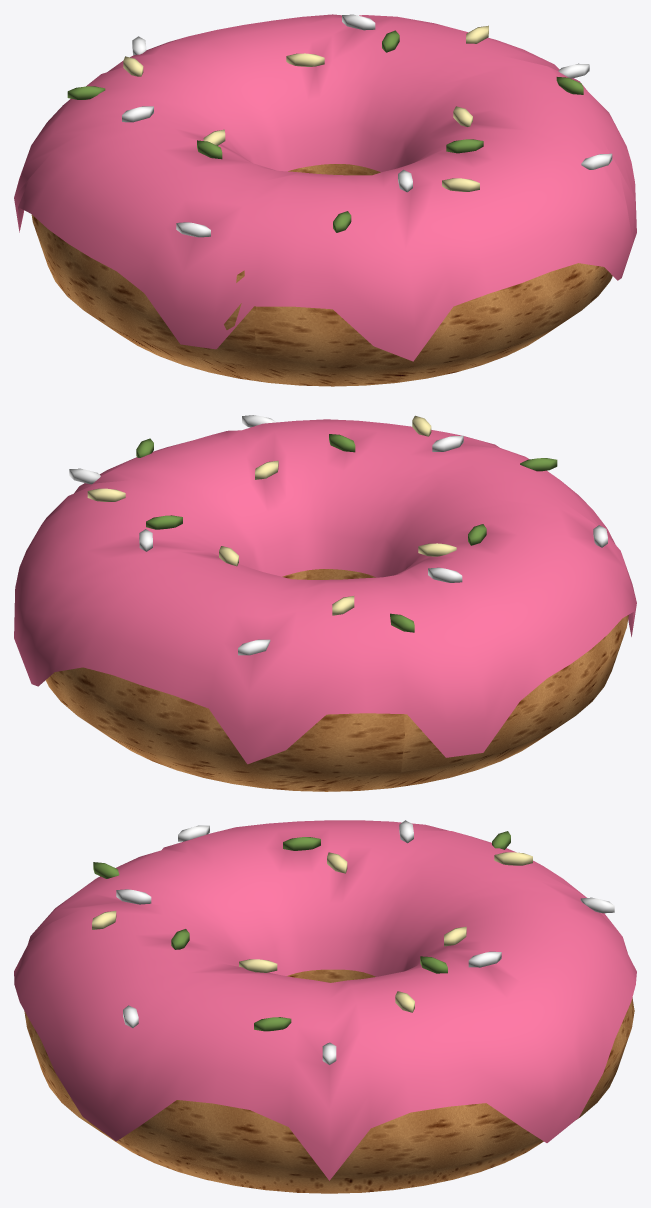
The model's file is donut.glb.
3 renders of one model, top to bottom at view 1: azimuth 30°, elevation 25°; view 2: azimuth 150°, elevation 25°; view 3: azimuth 270°, elevation 25°, orthographic.
Visible parts, largest first — view 1: donut; view 2: donut; view 3: donut.
Part boxes in pixels (box(x1,y1,x2,y2)): donut: box(14, 14, 636, 386); donut: box(14, 415, 636, 791); donut: box(14, 820, 636, 1193).
Size of the model in its own units: 1.91 by 0.6699 by 1.9.
5 materials, 1 textured.
